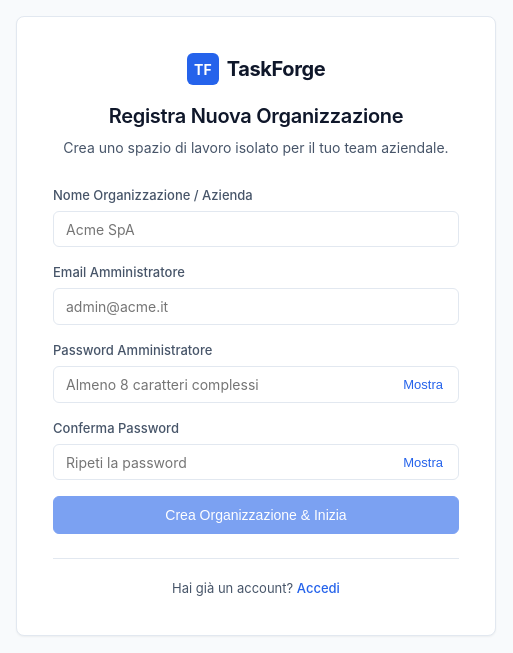
RegisterTenantComponent › R1: should toggle adminPassword visibility between password and text with button
Click the button "Mostra" below "Password Amministratore": (423, 384) [395,374,451,395]
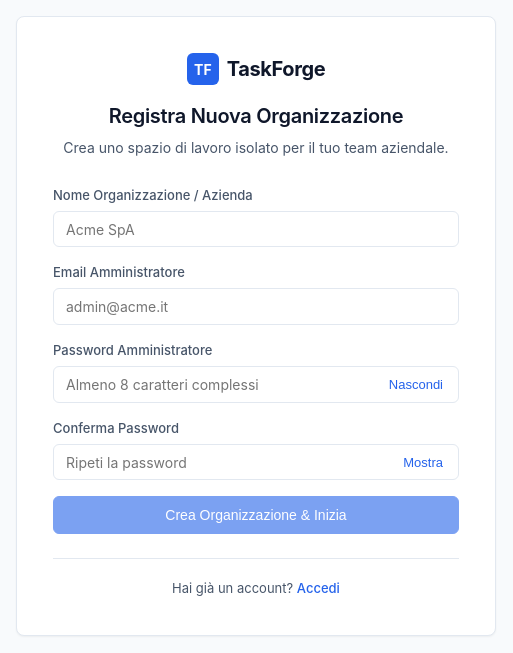
expect the button "Nascondi" is shown: met
Click the button "Nascondi": (416, 384) [381,374,451,395]
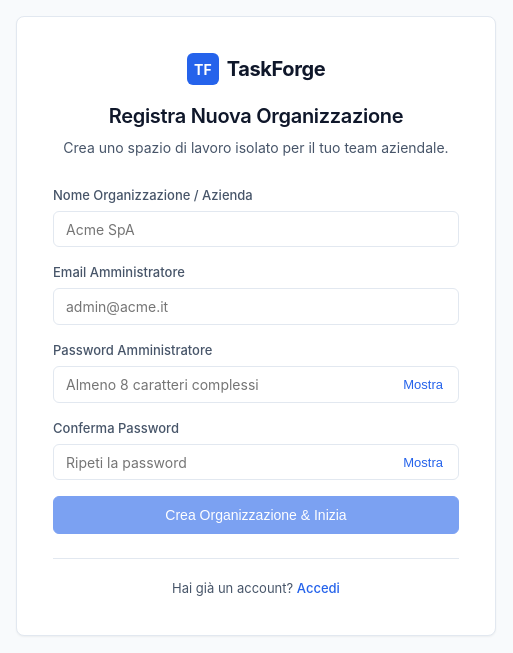
expect the button "Mostra" below "Password Amministratore" is shown: met, box [395,374,451,395]
